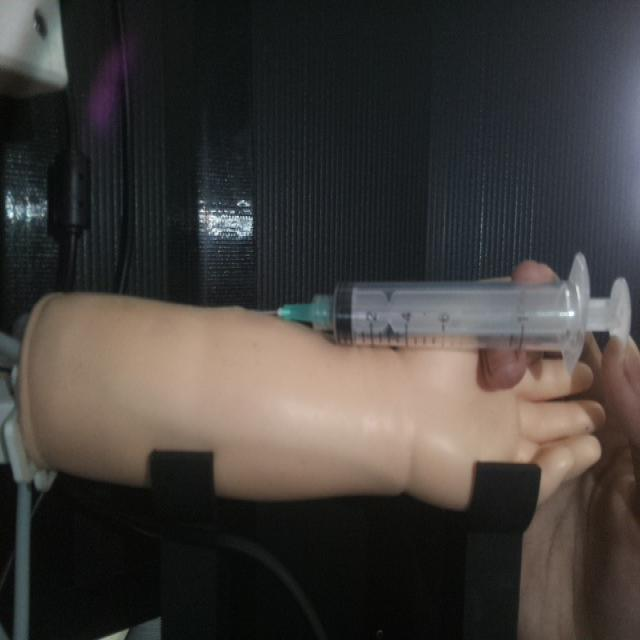Outside: (244, 248, 635, 370)
